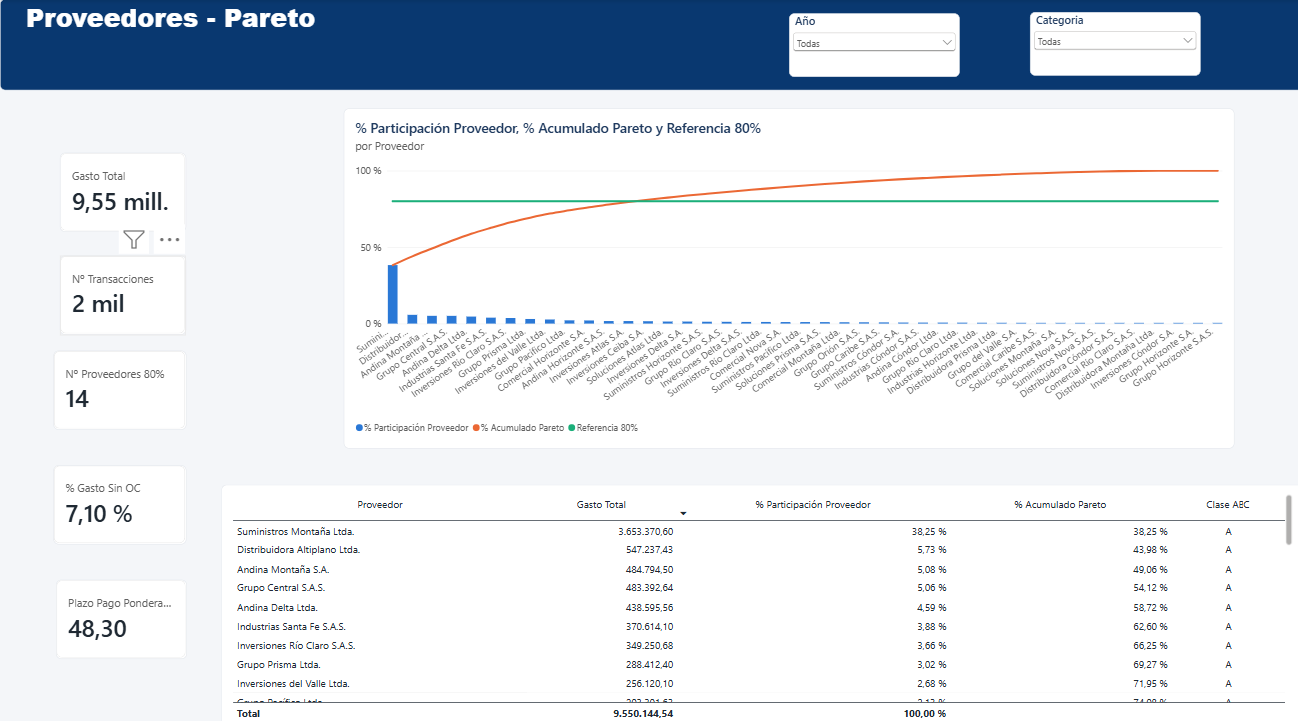

What the dashboard file says about the page in this screenshot:
{"tool":"powerbi","page":{"name":"Proveedores","canvas":[1920,1080],"ordinal":1},"visuals":[{"type":"cardVisual","fields":{"Data":["Calendario.Gasto Total"]},"box":[88.2,226.1,185.9,116.9],"z":0},{"type":"lineClusteredColumnComboChart","fields":{"Y2":["Calendario.% Acumulado Pareto","Calendario.Referencia 80%"],"Category":["Gasto.Proveedor"],"Y":["Calendario.% Participación Proveedor"]},"box":[505.2,161.5,1310.7,501.1],"z":1000},{"type":"cardVisual","fields":{"Data":["Calendario.Nº Transacciones"]},"box":[88.2,377.5,185.9,116.9],"z":2000},{"type":"cardVisual","fields":{"Data":["Calendario.Nº Proveedores 80%"]},"box":[78.6,517.5,195.5,116.9],"z":3000},{"type":"cardVisual","fields":{"Data":["Calendario.% Gasto Sin OC"]},"box":[78.6,686.1,195.5,116.9],"z":4000},{"type":"cardVisual","fields":{"Data":["Calendario.Plazo Pago Ponderado"]},"box":[82.4,854.8,192.5,116.7],"z":5000},{"type":"textbox","box":[0,0,1919.4,134.6],"z":6000},{"type":"tableEx","fields":{"Values":["Gasto.Proveedor","Calendario.Gasto Total","Calendario.% Participación Proveedor","Calendario.% Acumulado Pareto","Calendario.Clase ABC"]},"box":[325.1,714.4,1594.4,366.5],"z":7000},{"type":"slicer","fields":{"Values":["Calendario.Año"]},"box":[1161.4,21.1,251.1,93.9],"z":7001},{"type":"slicer","fields":{"Values":["Gasto.Categoria"]},"box":[1515.9,19.2,251.1,93.9],"z":7002}]}

Visuals, with their boxes in screenshot pixels (x1, y1, x2, y2), scaled from the page's 1920x1080 canvas onto the 1298x721 screenshot:
cardVisual - Calendario.Gasto Total: [left=60, top=151, right=185, bottom=229]
lineClusteredColumnComboChart - Calendario.% Acumulado Pareto x Calendario.Referencia 80%: [left=342, top=108, right=1228, bottom=442]
cardVisual - Calendario.Nº Transacciones: [left=60, top=252, right=185, bottom=330]
cardVisual - Calendario.Nº Proveedores 80%: [left=53, top=345, right=185, bottom=424]
cardVisual - Calendario.% Gasto Sin OC: [left=53, top=458, right=185, bottom=536]
cardVisual - Calendario.Plazo Pago Ponderado: [left=56, top=571, right=186, bottom=649]
textbox: [left=0, top=0, right=1297, bottom=90]
tableEx - Gasto.Proveedor x Calendario.Gasto Total: [left=220, top=477, right=1297, bottom=720]
slicer - Calendario.Año: [left=785, top=14, right=955, bottom=77]
slicer - Gasto.Categoria: [left=1025, top=13, right=1195, bottom=76]
